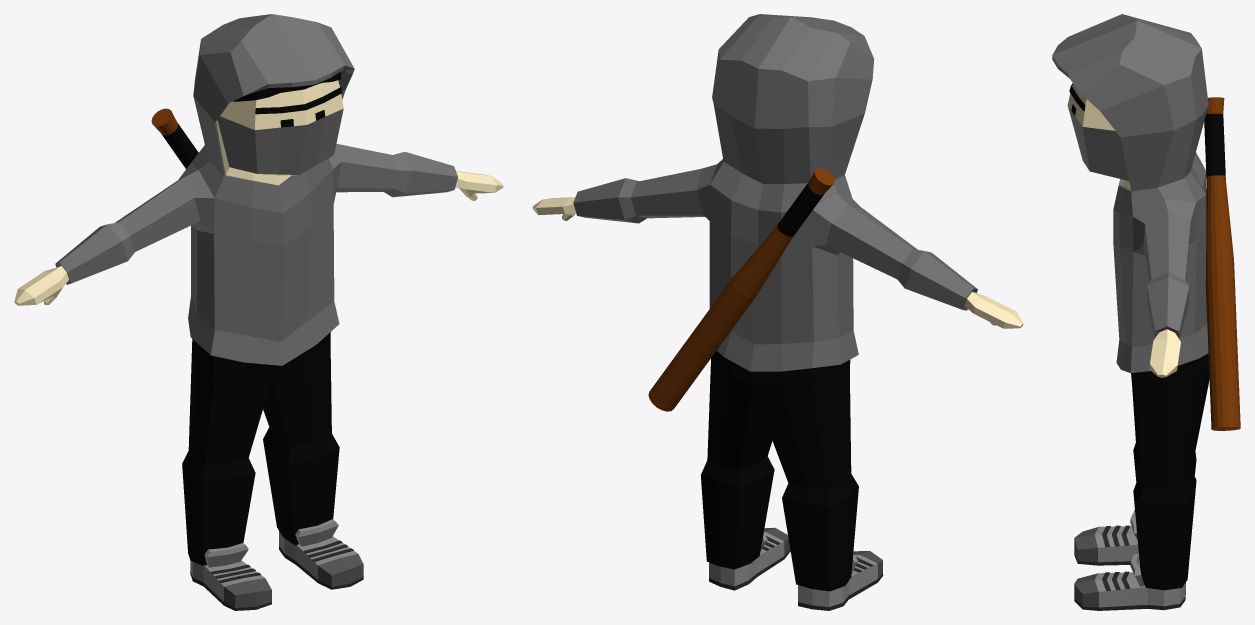
File: Character_Boy_Black.fbx
3 views of the same model, side by side, from view 1: azimuth 30°, elevation 25°; view 2: azimuth 150°, elevation 25°; view 3: azimuth 270°, elevation 25° (orthographic).
Visible parts, largest first — view 1: Cube.001, Cylinder; view 2: Cube.001, Cylinder; view 3: Cube.001, Cylinder.
Part boxes in pixels (x1=…): Cube.001: x1=14, y1=14, x2=503, y2=610; Cylinder: x1=151, y1=108, x2=198, y2=168; Cube.001: x1=532, y1=14, x2=1023, y2=610; Cylinder: x1=648, y1=168, x2=834, y2=411; Cube.001: x1=1052, y1=14, x2=1209, y2=610; Cylinder: x1=1204, y1=97, x2=1240, y2=430.
Bounding box in the file's own units: 153 × 169 × 51.67.
